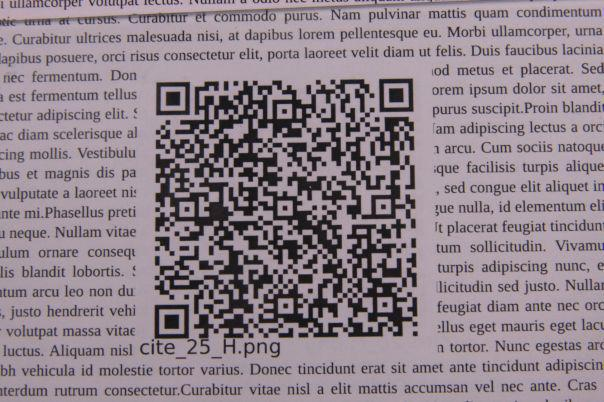Finder pattern: (153, 300, 192, 342), (377, 76, 418, 112), (153, 79, 193, 115)
